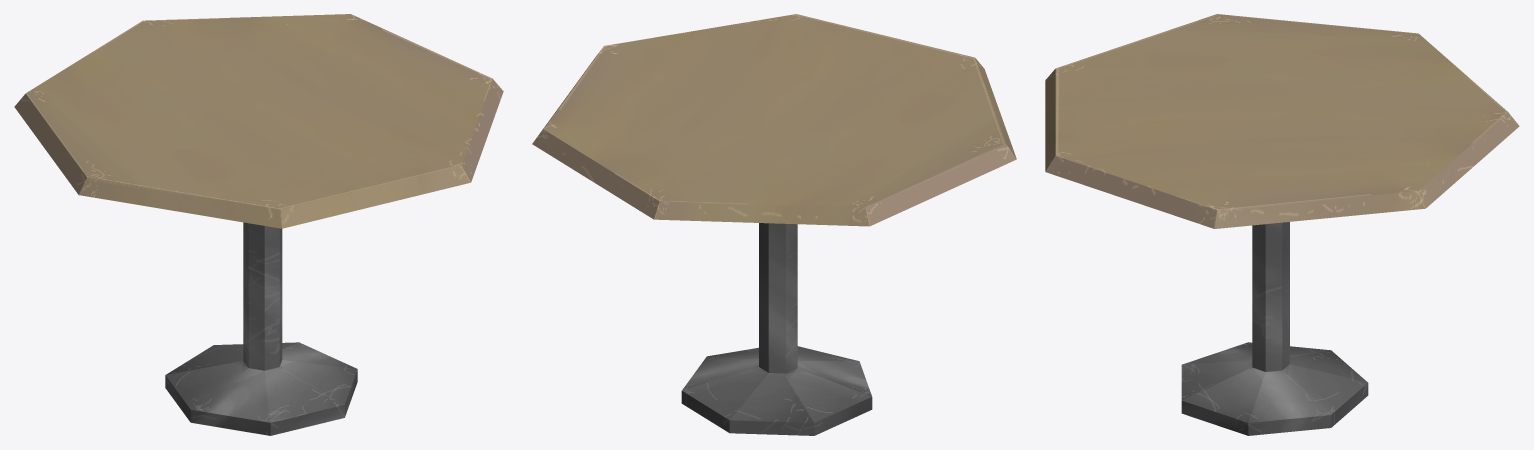
The model's file is cafetable.fbx.
3 renders of one model, left to right at view 1: azimuth 30°, elevation 25°; view 2: azimuth 150°, elevation 25°; view 3: azimuth 270°, elevation 25°, orthographic.
Visible parts, largest first — view 1: Cylinder; view 2: Cylinder; view 3: Cylinder.
Part boxes in pixels (left/top/right/bottom): Cylinder: left=14, top=14, right=503, bottom=435; Cylinder: left=532, top=14, right=1016, bottom=435; Cylinder: left=1045, top=14, right=1519, bottom=435.
Bounding box in the file's own units: 175 × 113 × 171.
